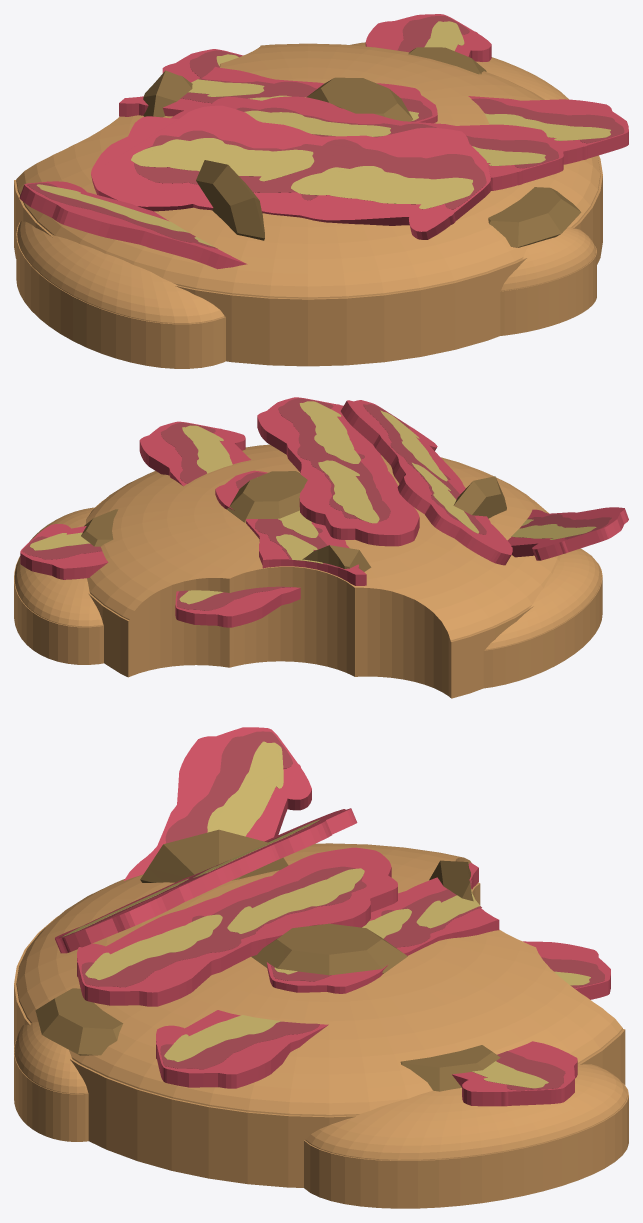
File: Fantastic Turing-Inari.glb
3 views of the same model, one above another, from view 1: azimuth 30°, elevation 25°; view 2: azimuth 150°, elevation 25°; view 3: azimuth 270°, elevation 25° (orthographic). The views are drawn at different scales.
Parts seen in each view (by area): view 1: Mesh_Mesh_head_geo.001_lambert2SG.001; view 2: Mesh_Mesh_head_geo.001_lambert2SG.001; view 3: Mesh_Mesh_head_geo.001_lambert2SG.001.
Boxes of the visible parts, x1,y1,x2,y2 form: Mesh_Mesh_head_geo.001_lambert2SG.001: (14,14,628,368); Mesh_Mesh_head_geo.001_lambert2SG.001: (14,397,628,698); Mesh_Mesh_head_geo.001_lambert2SG.001: (14,727,628,1208).
Bounding box in the file's own units: 0.0479 × 0.0124 × 0.039.
